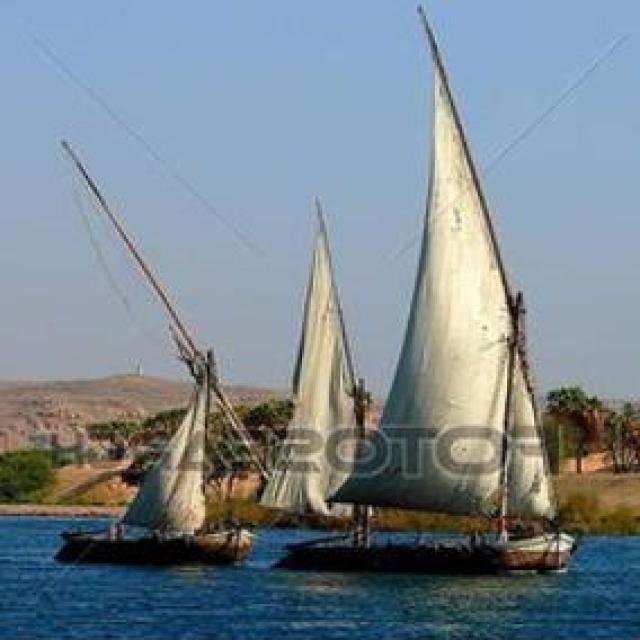sailboat: (317, 28, 595, 562), (260, 178, 410, 570), (55, 347, 268, 577)
